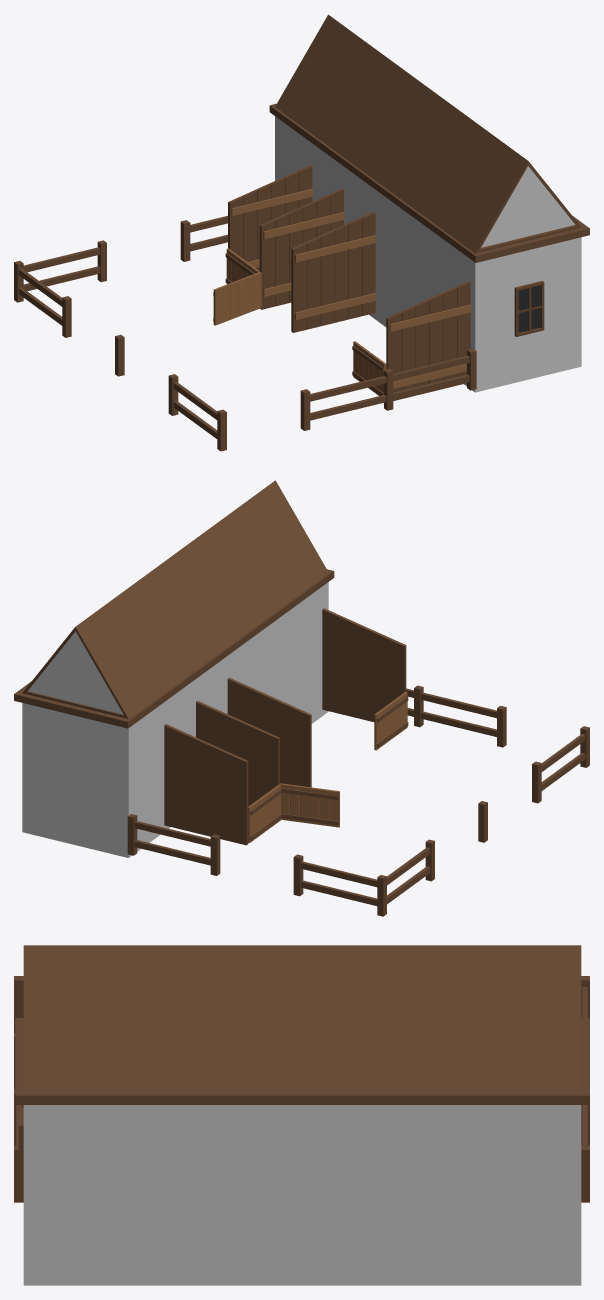
File: Stable_build_mat.fbx
3 views of the same model, one above another, from view 1: azimuth 30°, elevation 25°; view 2: azimuth 150°, elevation 25°; view 3: azimuth 270°, elevation 25° (orthographic). The views are drawn at different scales.
Parts seen in each view (by area): view 1: Stable_build_mat; view 2: Stable_build_mat; view 3: Stable_build_mat.
Boxes of the visible parts, x1,y1,x2,y2 form: Stable_build_mat: (14, 14, 589, 451); Stable_build_mat: (14, 480, 589, 916); Stable_build_mat: (14, 945, 589, 1285).
Bounding box in the file's own units: 690 × 390 × 668.
